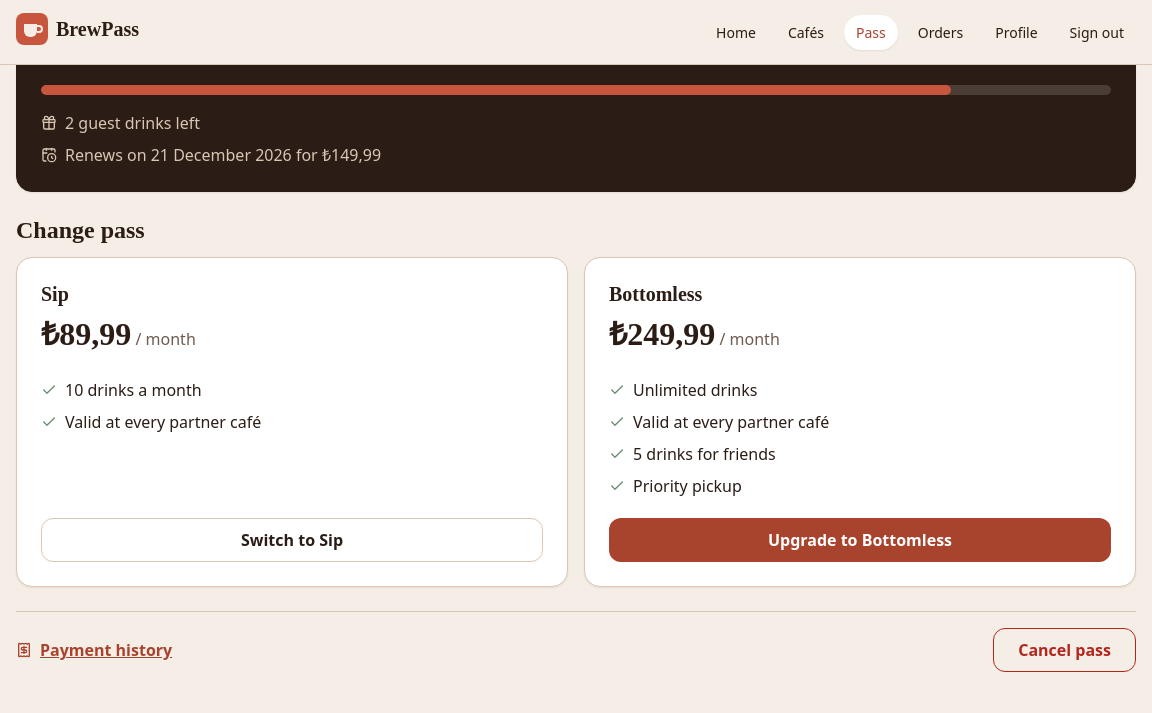
it: managing a pass › schedules a downgrade and can keep the current pass
(page scrolled)
Click the button "Switch to Sip". click: (292, 540)
box: x1=41 y1=518 x2=543 y2=562
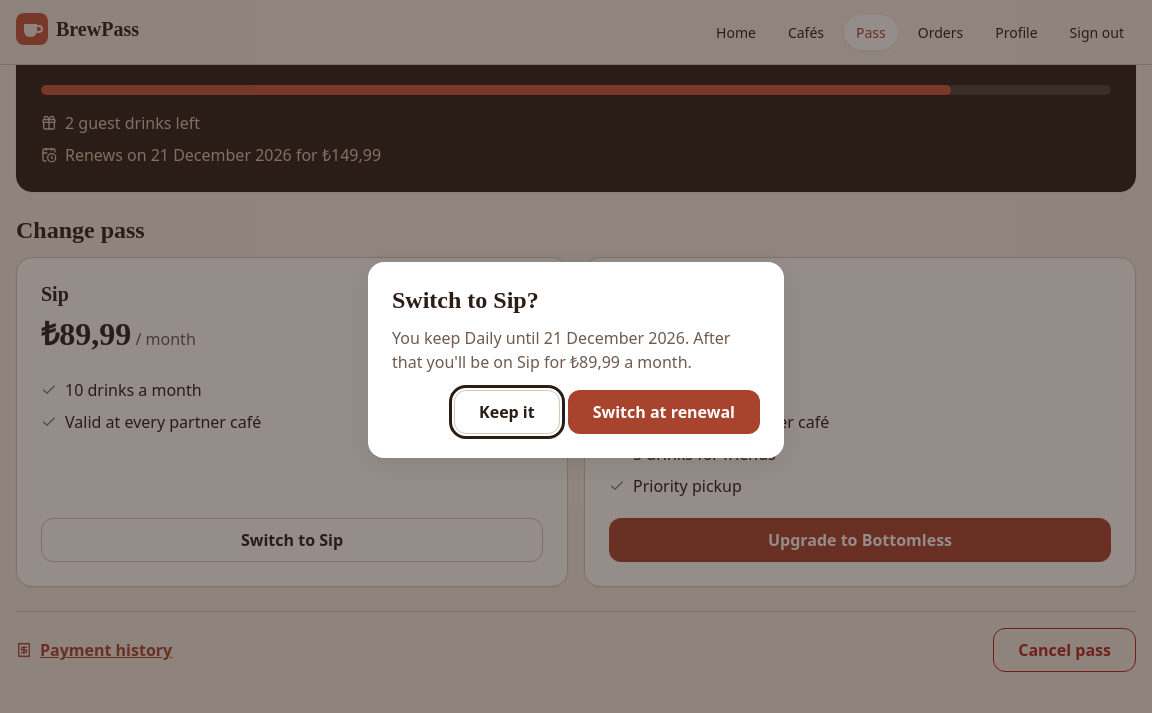
Expected: the dialog shows "You keep Daily until 21 December 2026", x1=368 y1=262 x2=784 y2=458
Click the button "Switch at renewal". click: (664, 412)
box: x1=568 y1=390 x2=760 y2=434
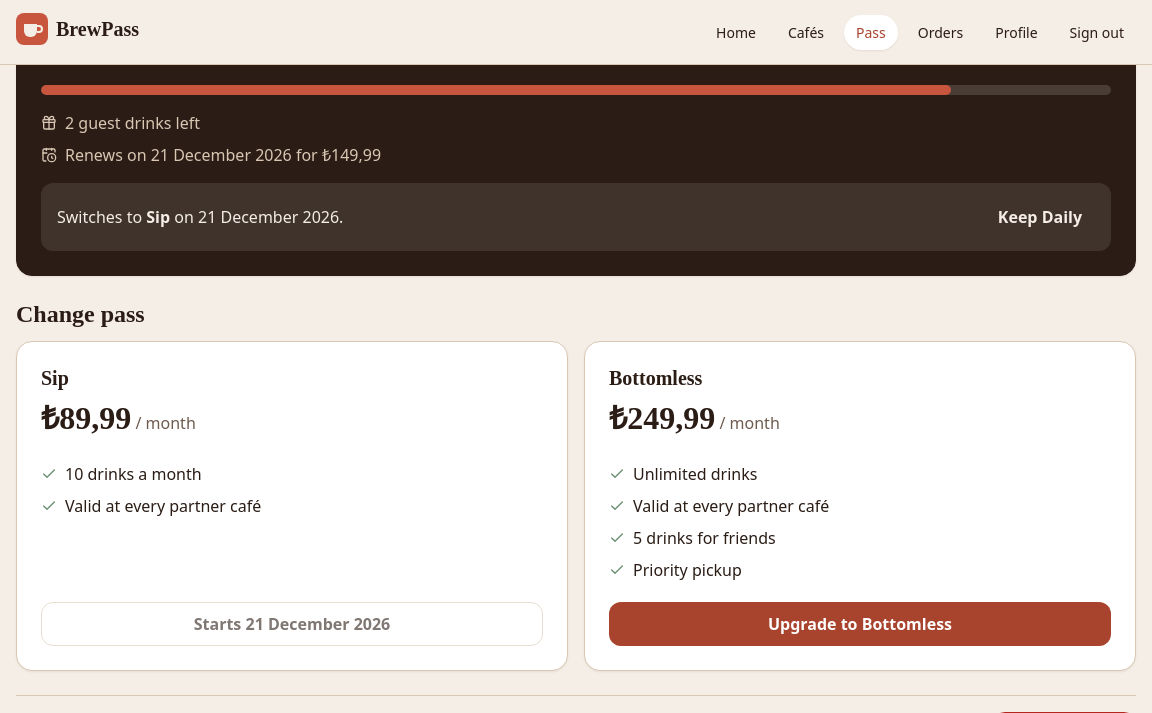
Expected: the text "Switches to Sip on 21 December 2026." is shown, x1=57 y1=205 x2=343 y2=229
Click the button "Keep Daily". click: (1040, 217)
box: x1=985 y1=195 x2=1095 y2=239
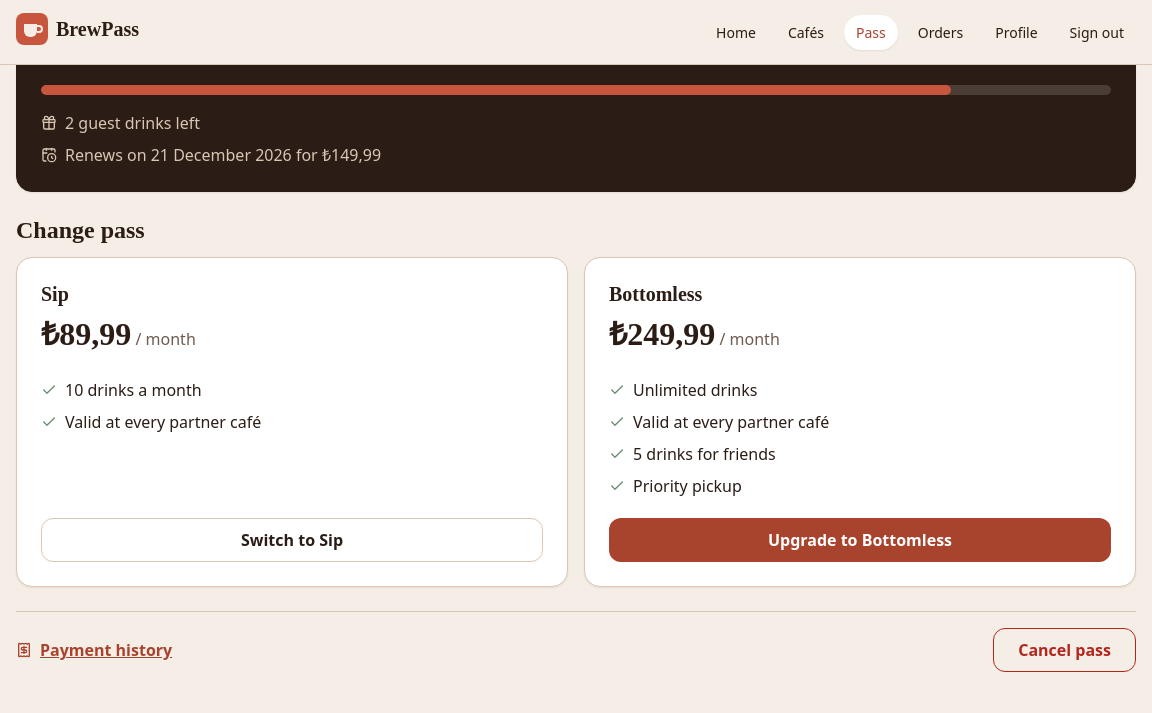
Expected: the text "Switches to" is gone
